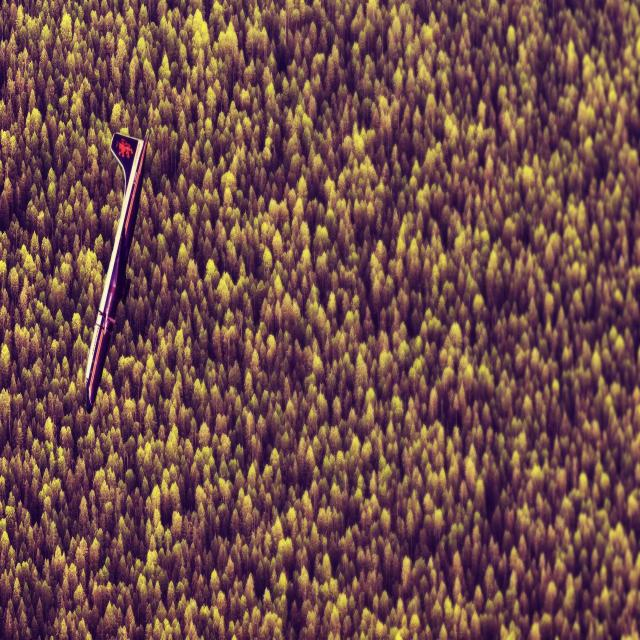airplane: (84, 127, 150, 413)
